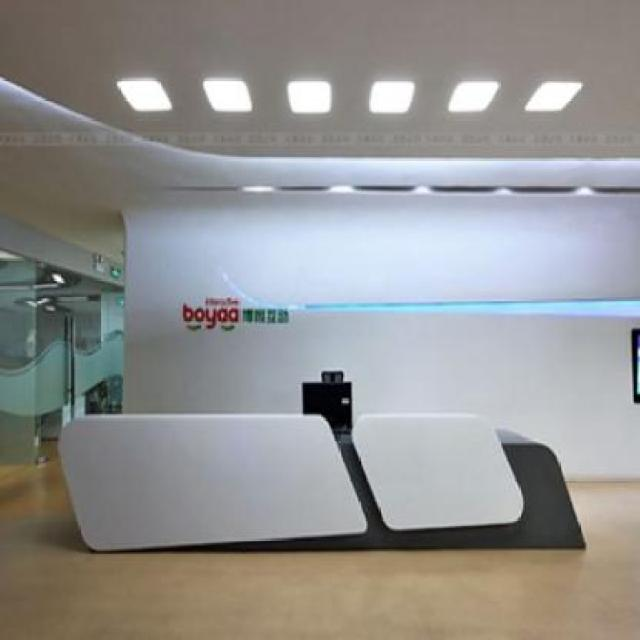frontdesk: (51, 392, 593, 570)
